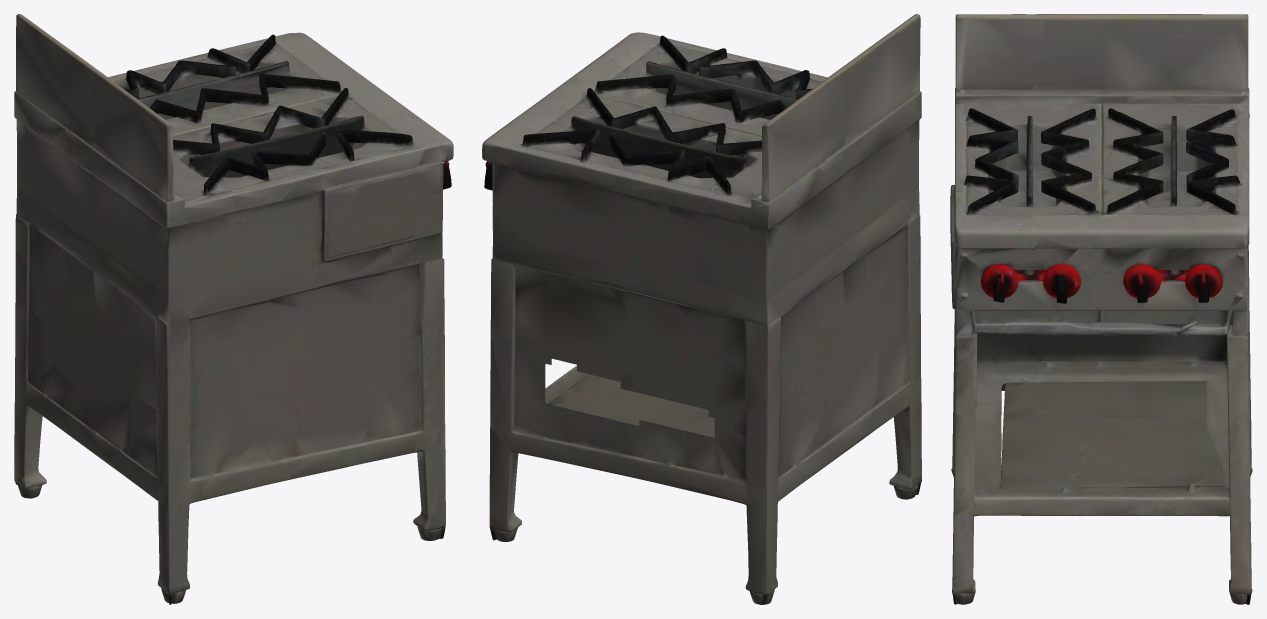
Rendered from range3d-m.glb.
3 views of the same model, side by side, from view 1: azimuth 30°, elevation 25°; view 2: azimuth 150°, elevation 25°; view 3: azimuth 270°, elevation 25° (orthographic). The views are drawn at different scales.
Visible parts, largest first — view 1: tripo_node_323fc09e-2a32-411c-a16b-4c7a217f3b54; view 2: tripo_node_323fc09e-2a32-411c-a16b-4c7a217f3b54; view 3: tripo_node_323fc09e-2a32-411c-a16b-4c7a217f3b54.
Boxes of the visible parts, <box> form: tripo_node_323fc09e-2a32-411c-a16b-4c7a217f3b54: <box>14,14,453,604</box>; tripo_node_323fc09e-2a32-411c-a16b-4c7a217f3b54: <box>482,14,921,604</box>; tripo_node_323fc09e-2a32-411c-a16b-4c7a217f3b54: <box>950,14,1252,604</box>.
Size of the model in its own units: 0.6684 by 1 by 0.5921.
Materials: 1 (1 with a texture image).
